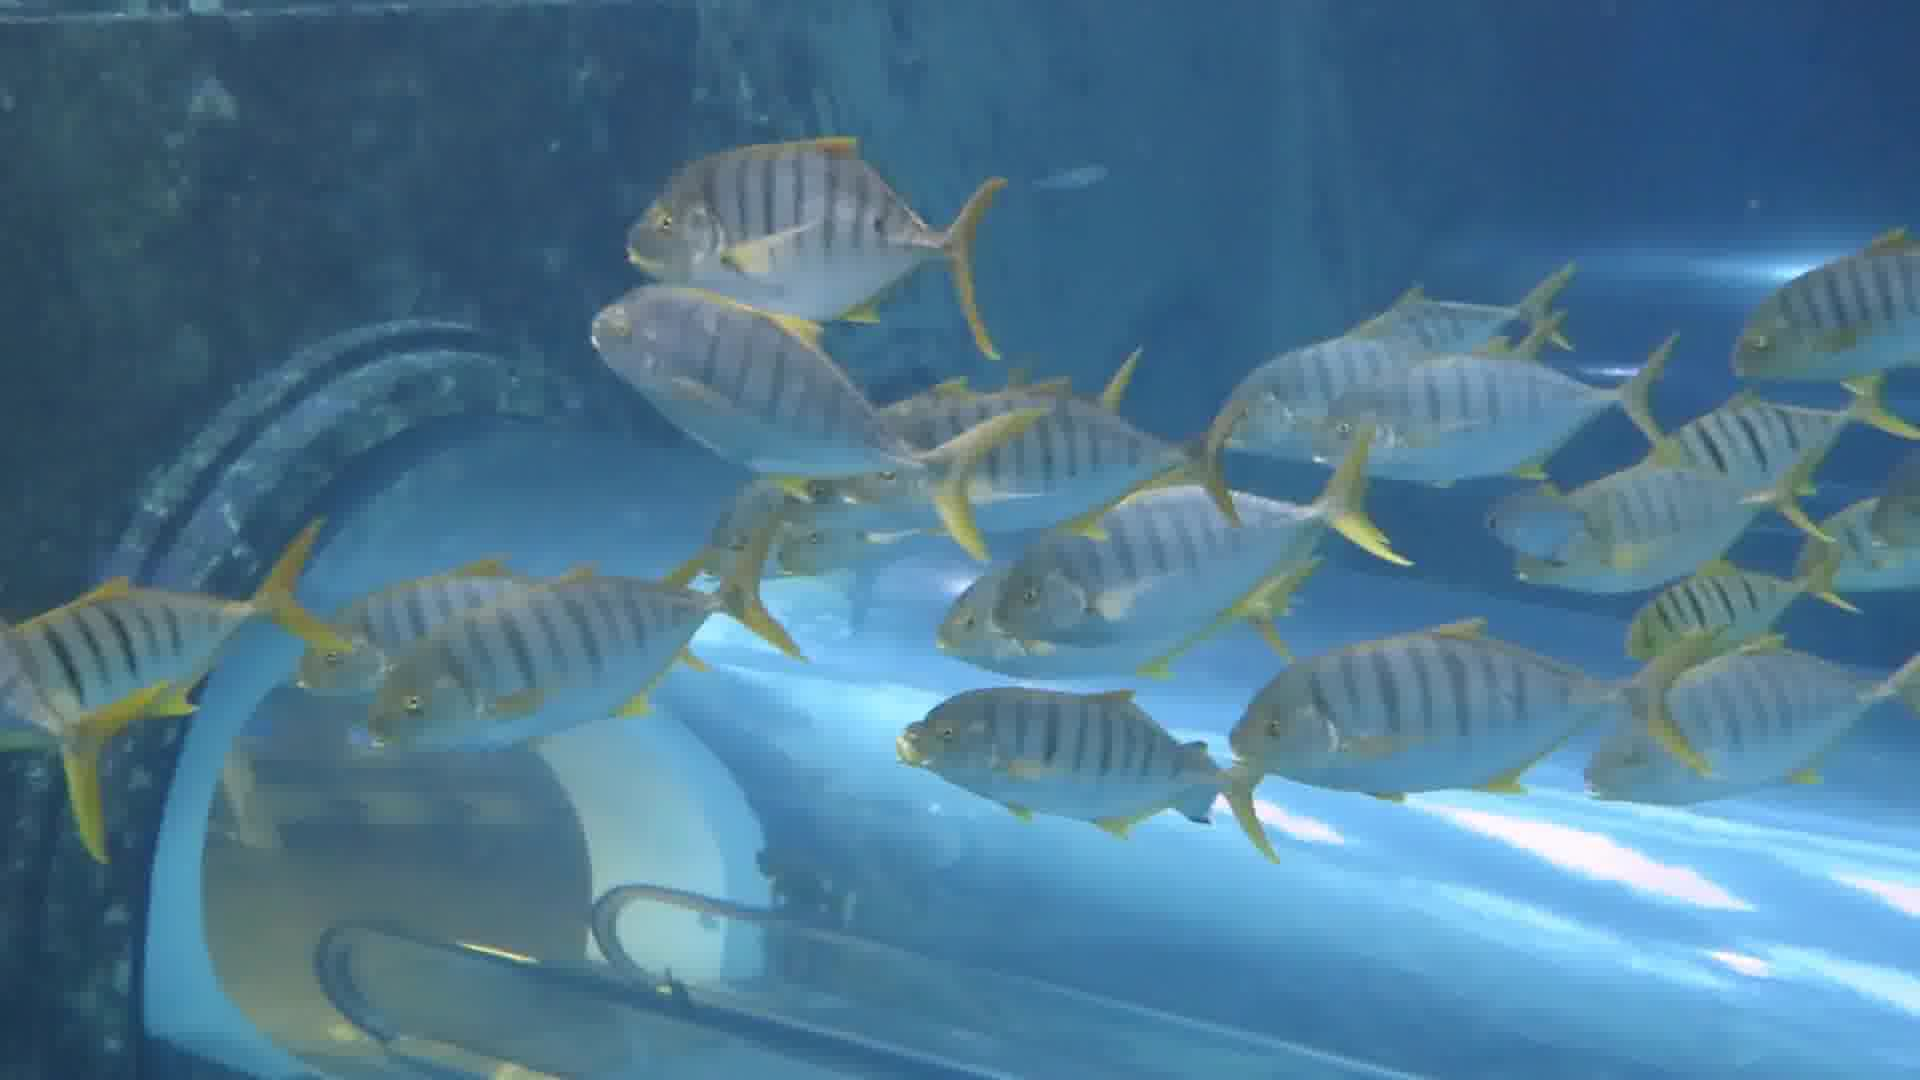Gnathanodon speciosus: (584, 272, 957, 520), (328, 574, 765, 773), (613, 132, 1000, 328), (996, 458, 1346, 647), (870, 680, 1251, 837), (1218, 651, 1615, 794), (1303, 332, 1698, 462), (1709, 243, 1920, 386)
